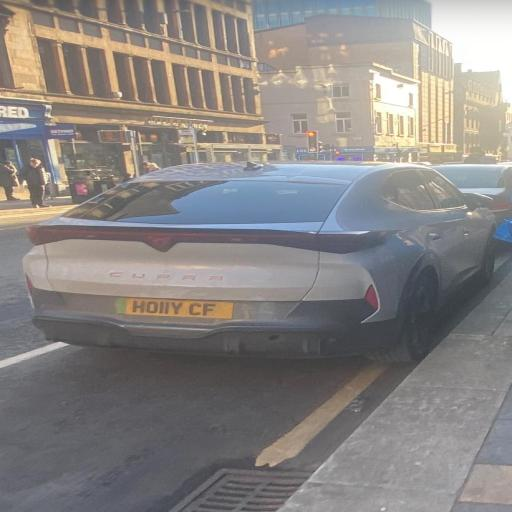numberplates: (118, 298, 233, 319)
